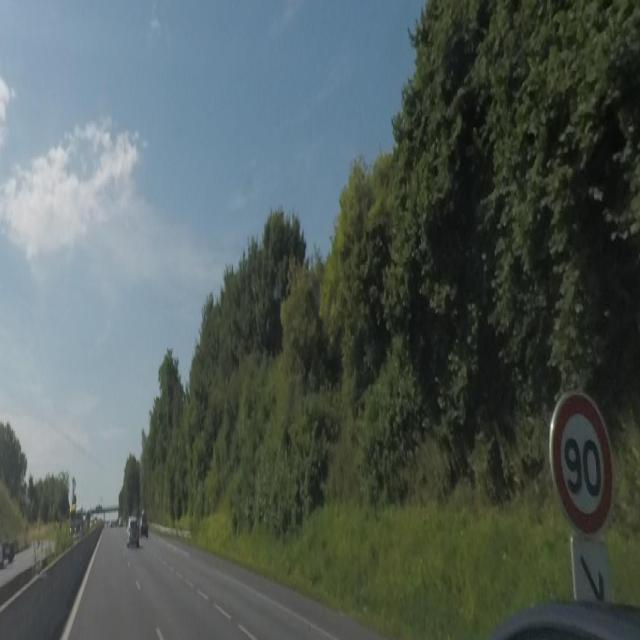speed_90: (552, 393, 614, 537)
